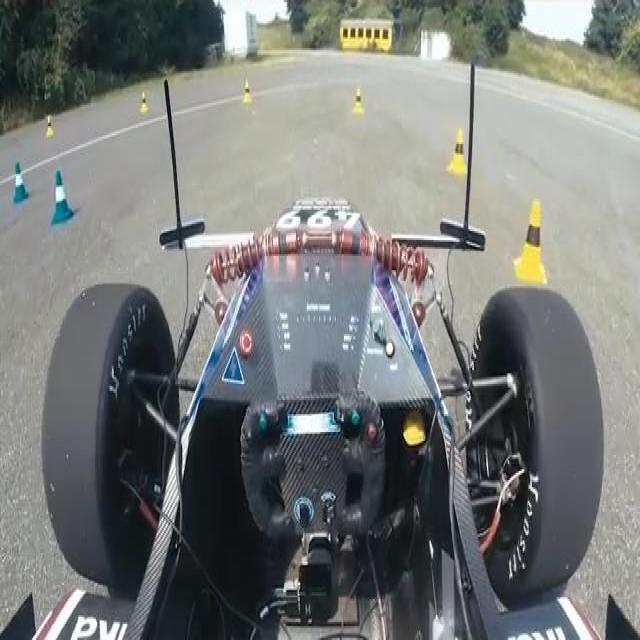blue_cone: (44, 160, 81, 227), (9, 160, 31, 208)
yellow_cone: (508, 198, 551, 292), (445, 124, 470, 180), (354, 82, 368, 118), (138, 89, 153, 117), (240, 78, 255, 101)
